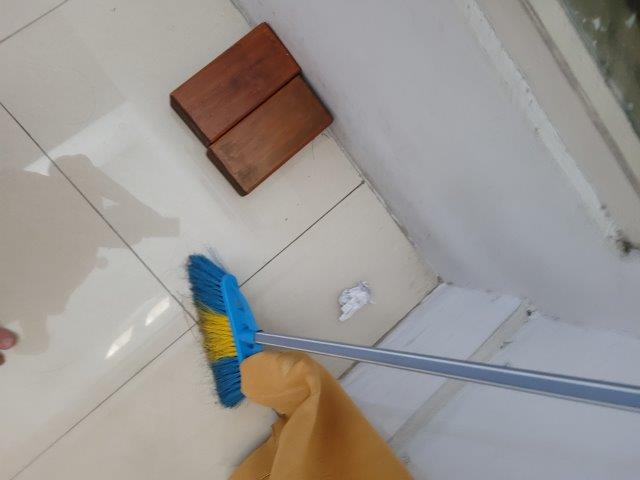kertas: (335, 283, 375, 319)
